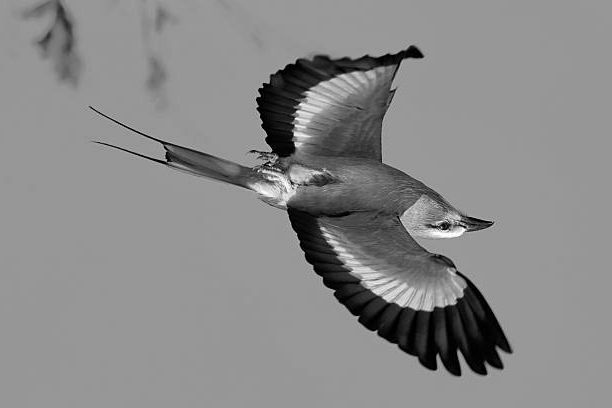Bird: (83, 41, 515, 378)
